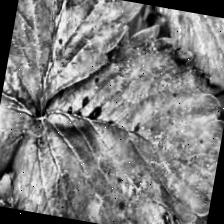Leaf Spot: (2, 1, 224, 224), (0, 0, 151, 131), (137, 4, 224, 81), (0, 167, 71, 217)
